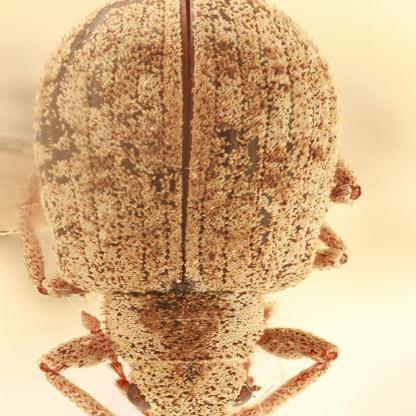rice-bug: (21, 0, 360, 416)
